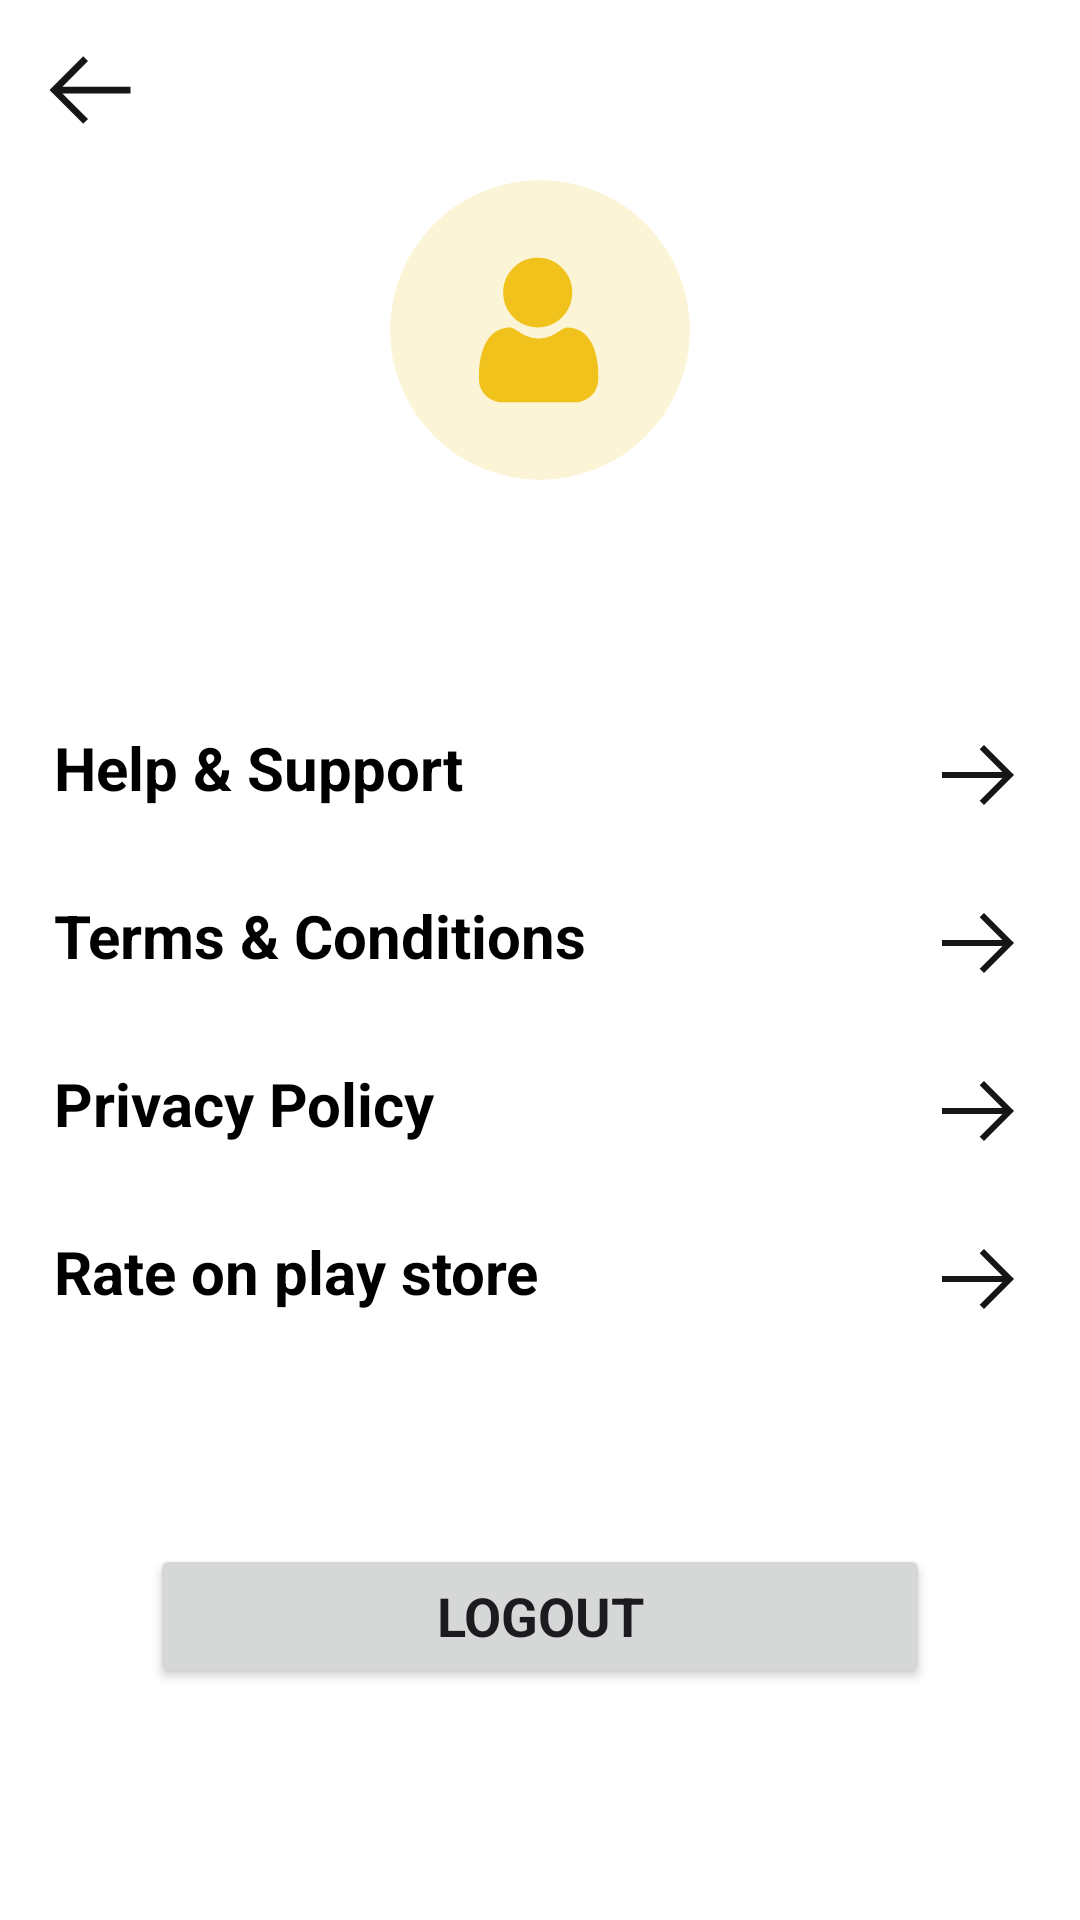

Locate icon controls on the screen. Image size 1080px×1920px, boxes as (x1, y1, x2, y2).
back: (49, 56, 131, 124)
profile holder: (390, 180, 690, 480)
